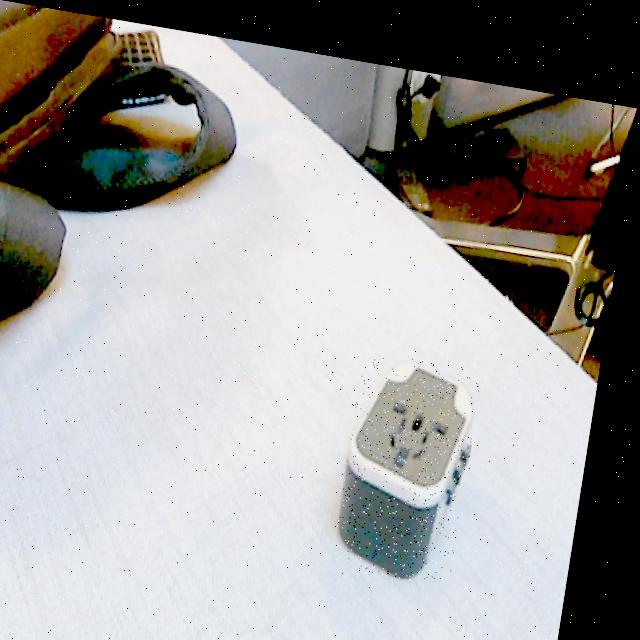adapter: (343, 335, 493, 568)
